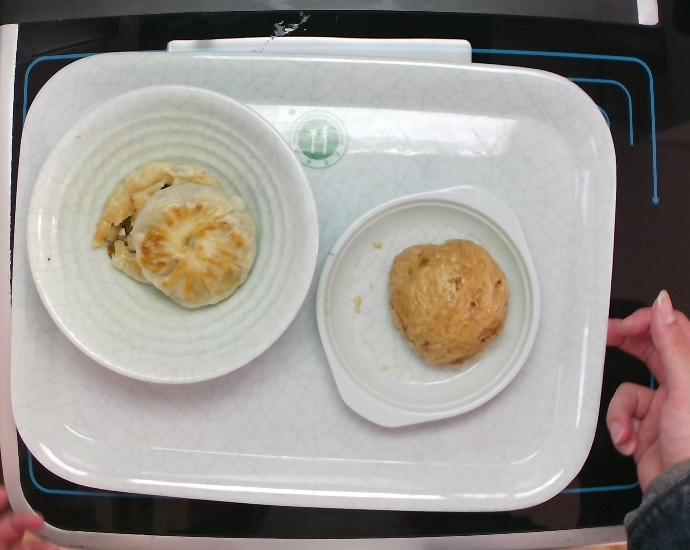JYsf-Shuang_Er_Pan: (314, 181, 542, 430)
JYsf-Xiao_Tang_Wan: (22, 82, 323, 386)
